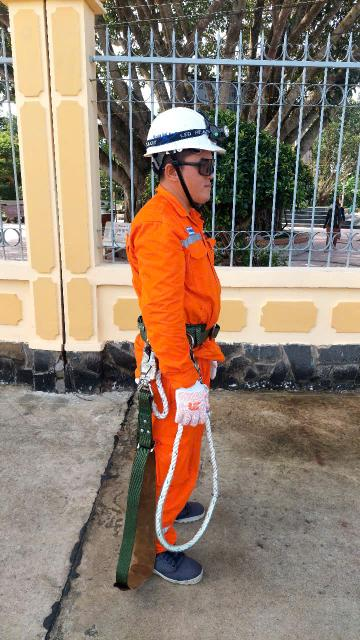gloves: (177, 380, 214, 431)
harness: (127, 311, 234, 358)
helmet: (136, 91, 218, 162)
shoes: (133, 545, 205, 585), (154, 494, 218, 529)
